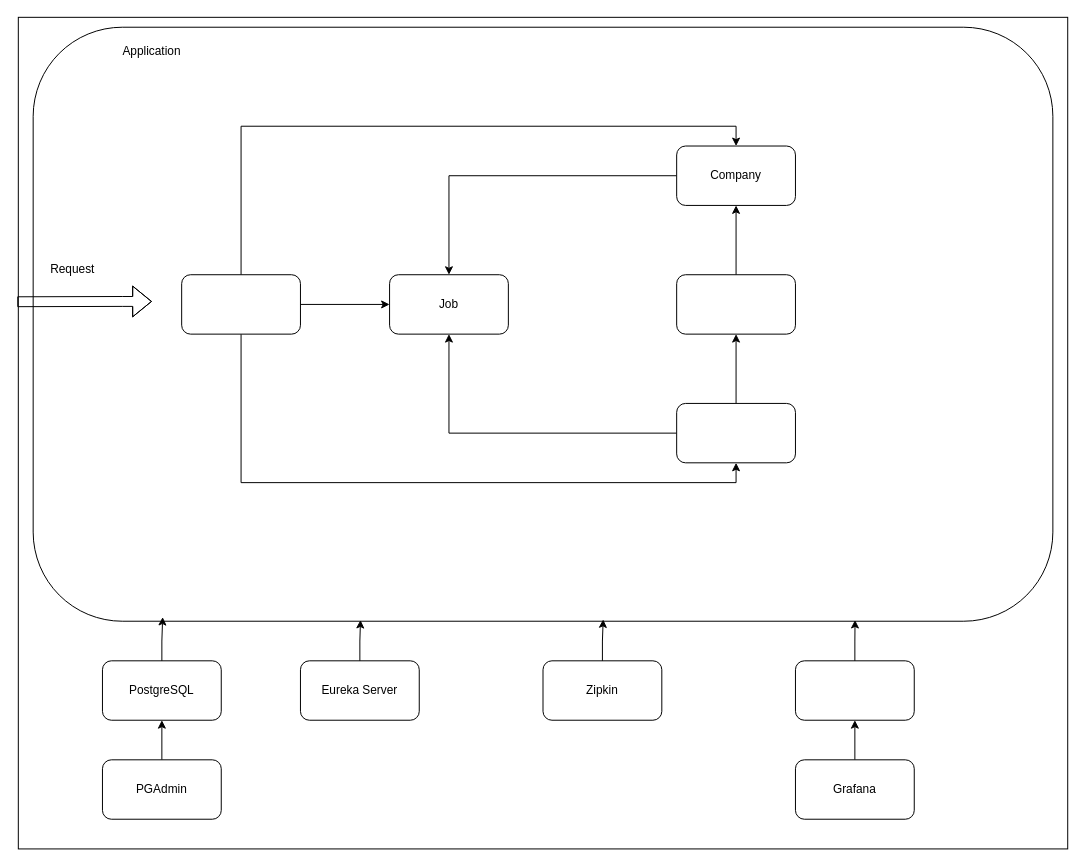
Image size: 1085x866. Some labels were removed from this diagram. The shapes that lost their labels are listed below. From the top down, each one's box as (x1, y1, x2, y2) in pixels, then its label:
(181, 274, 300, 334): Gateway
(676, 274, 795, 334): RabbitMQ
(676, 402, 795, 463): Review
(794, 660, 914, 720): Prometheus
